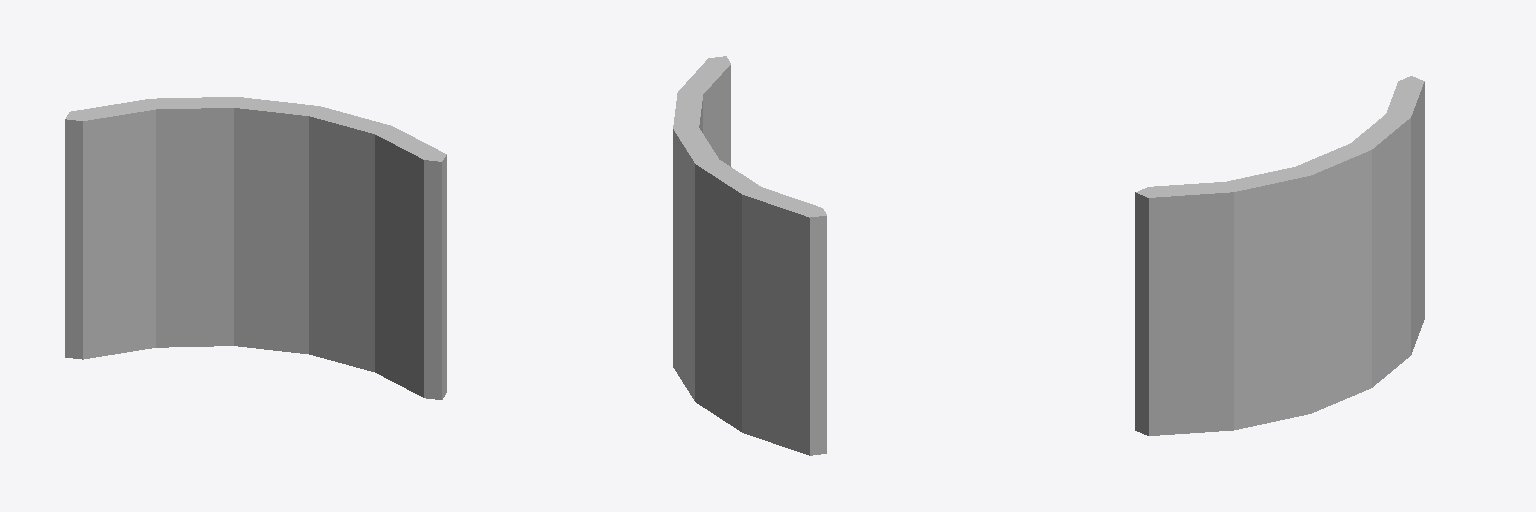
File: Wall_Curved.obj
The picture shows the model from 3 angles: view 1: azimuth 30°, elevation 25°; view 2: azimuth 150°, elevation 25°; view 3: azimuth 270°, elevation 25°; orthographic projection.
Parts seen in each view (by area): view 1: object1; view 2: object1; view 3: object1.
Boxes of the visible parts, x1,y1,x2,y2 form: object1: [65, 97, 446, 399]; object1: [673, 56, 826, 455]; object1: [1135, 76, 1424, 435].
Size of the model in its own units: 1.1 by 1 by 1.1.